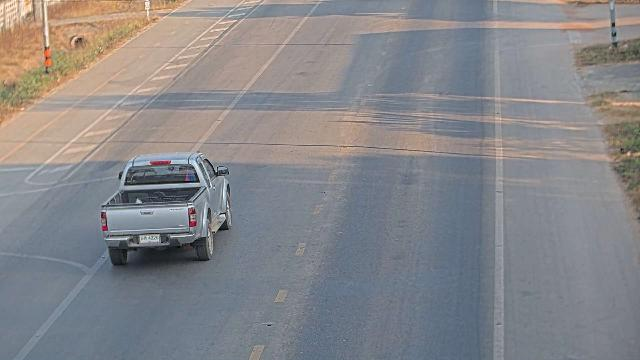pickup-truck: (99, 151, 233, 266)
